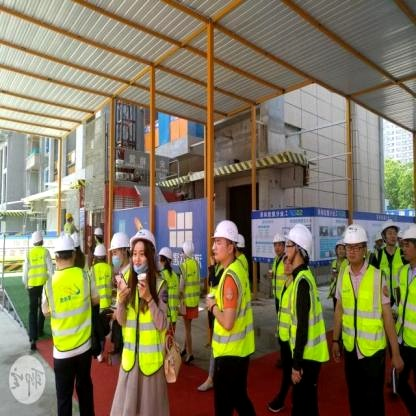vest: (118, 270, 172, 376), (207, 257, 258, 361), (338, 261, 394, 355), (44, 263, 98, 351), (288, 265, 333, 360), (89, 259, 118, 310), (178, 256, 204, 310), (276, 272, 294, 344), (177, 257, 204, 305), (162, 267, 182, 330), (378, 245, 405, 290), (27, 243, 50, 291), (270, 250, 288, 301)
white: (284, 219, 318, 254), (210, 216, 246, 244), (125, 224, 159, 250), (340, 222, 372, 247), (107, 227, 130, 255), (54, 231, 79, 255), (381, 217, 402, 236), (31, 224, 46, 247), (181, 238, 198, 258), (157, 244, 174, 262), (272, 229, 288, 247), (93, 242, 110, 257), (91, 225, 106, 237)
yellow: (64, 208, 74, 219)
